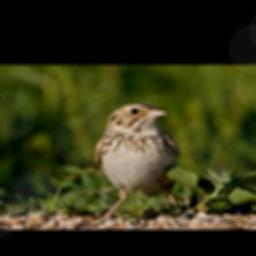Sparrow: (91, 100, 182, 224)
